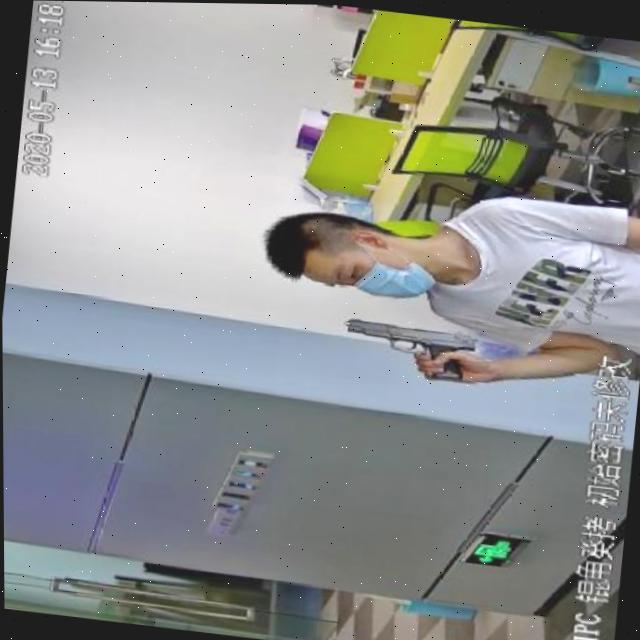gun: (312, 306, 499, 389)
